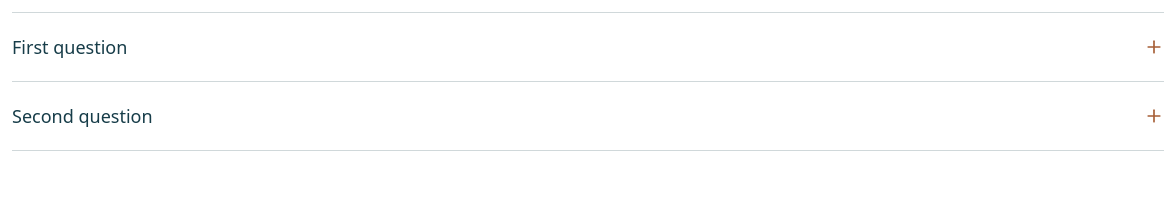
it: Accordion › keeps answers mounted but hidden, and opens only one panel per group
The width and height of the screenshot is (1176, 219).
Later steps or results of the test are not shown.
Click the button "First question" at (70, 47), box [12,13,1164,81]
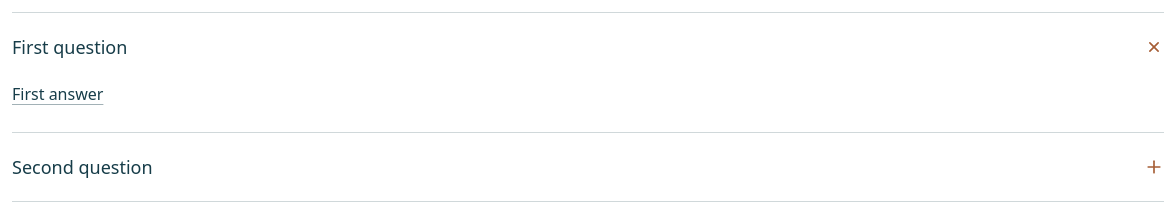
Check: the button "First question" is expanded, box [12,13,1164,81]
Check: the link "First answer" is shown, box [12,83,103,105]
Click the button "Second question" at (82, 167), box [12,133,1164,201]
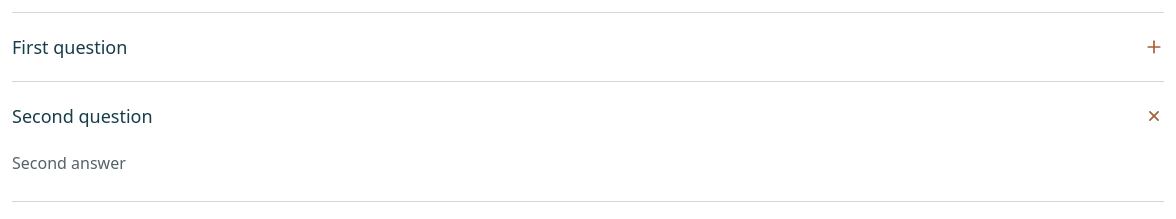
Check: the button "First question" is collapsed, box [12,13,1164,81]
Check: the link "First answer" is gone
